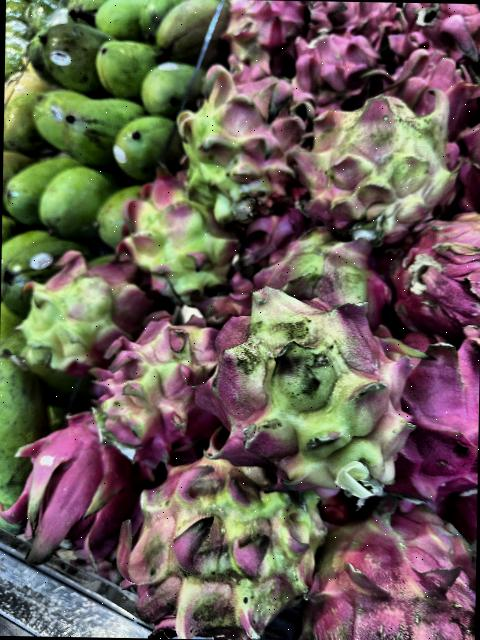buah-naga-belum-matang: (206, 289, 421, 498), (111, 449, 326, 640), (293, 75, 461, 238), (176, 58, 314, 220), (320, 499, 476, 640), (92, 306, 216, 470), (110, 169, 241, 297), (8, 257, 152, 365), (265, 225, 391, 328)
buah-naga-matang: (2, 409, 148, 583), (390, 328, 480, 497), (390, 214, 480, 338), (375, 41, 480, 133), (286, 22, 384, 97), (222, 0, 306, 72), (395, 2, 480, 70)
